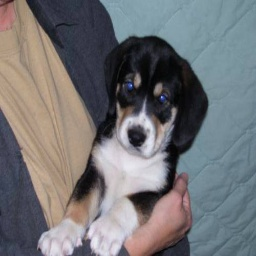dog: (37, 35, 208, 254)
